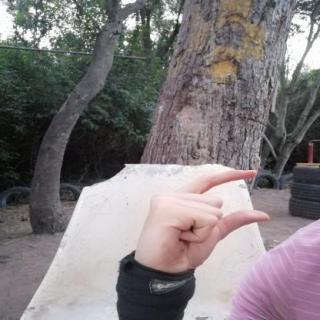DELL: (122, 162, 281, 281)
